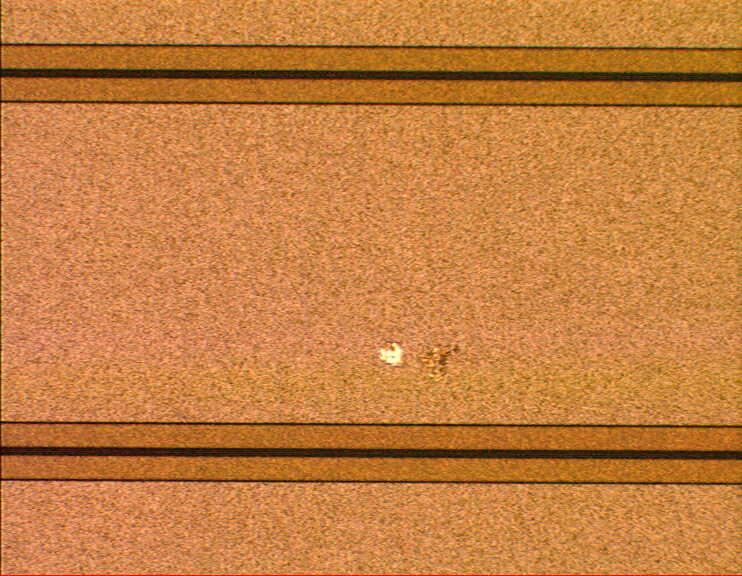SCRATCH: (371, 329, 477, 388)
